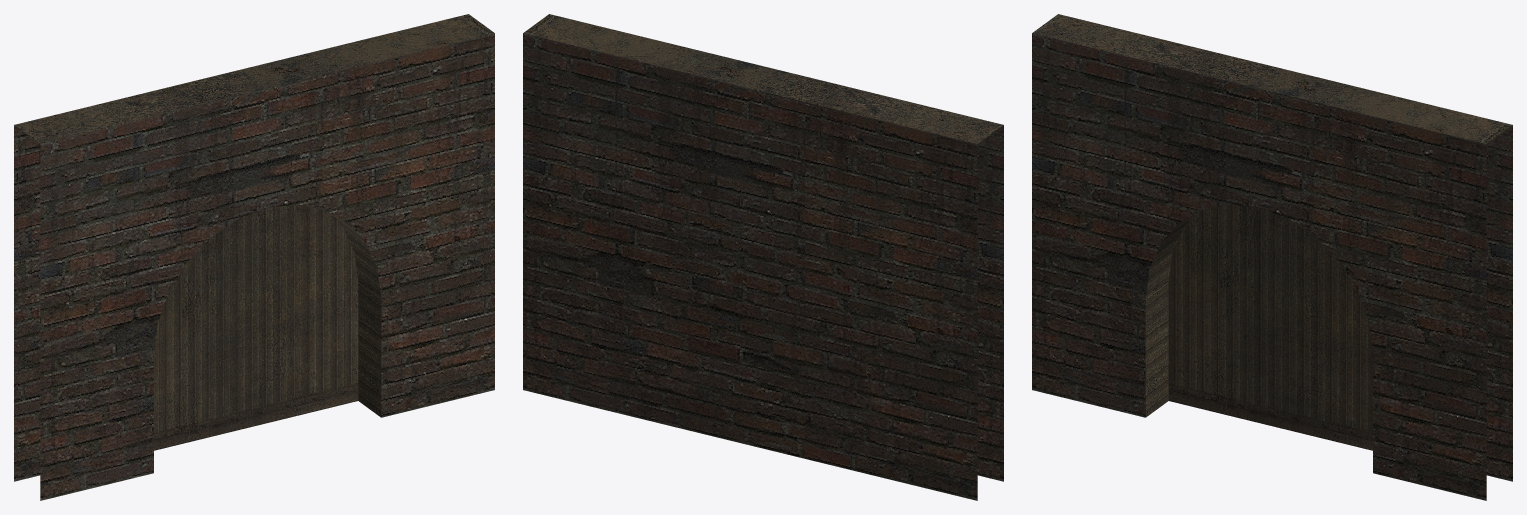
The model's file is wall_hs_15.glb.
3 renders of one model, left to right at view 1: azimuth 30°, elevation 25°; view 2: azimuth 150°, elevation 25°; view 3: azimuth 330°, elevation 25°, orthographic.
Parts seen in each view (by area): view 1: wall_hs_15; view 2: wall_hs_15; view 3: wall_hs_15.
Part boxes in pixels (x1=…): wall_hs_15: x1=14, y1=14, x2=494, y2=500; wall_hs_15: x1=523, y1=14, x2=1003, y2=500; wall_hs_15: x1=1032, y1=14, x2=1512, y2=500.
Size of the model in its own units: 4 by 3 by 0.4.
Materials: 3 (3 with a texture image).
